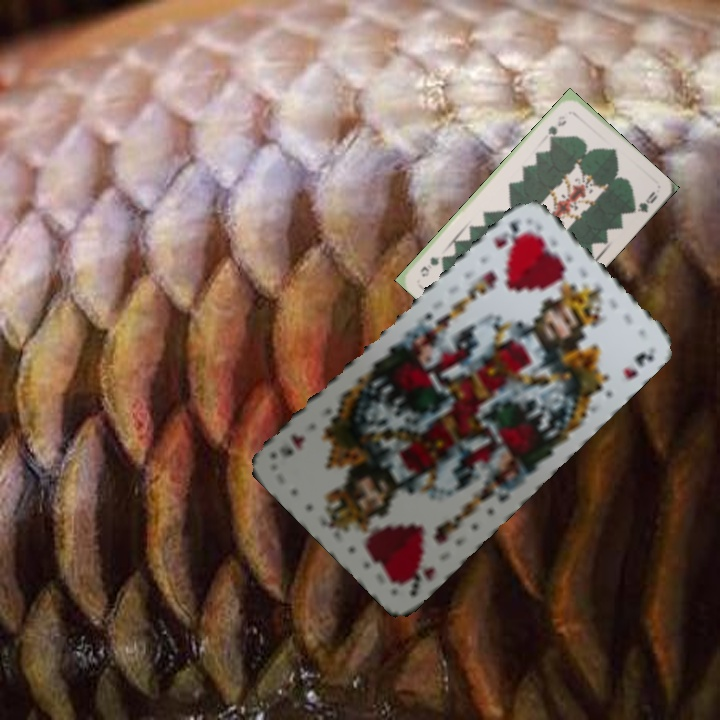G9: (544, 111, 569, 143)
HK: (395, 555, 437, 599), (490, 214, 524, 252)
